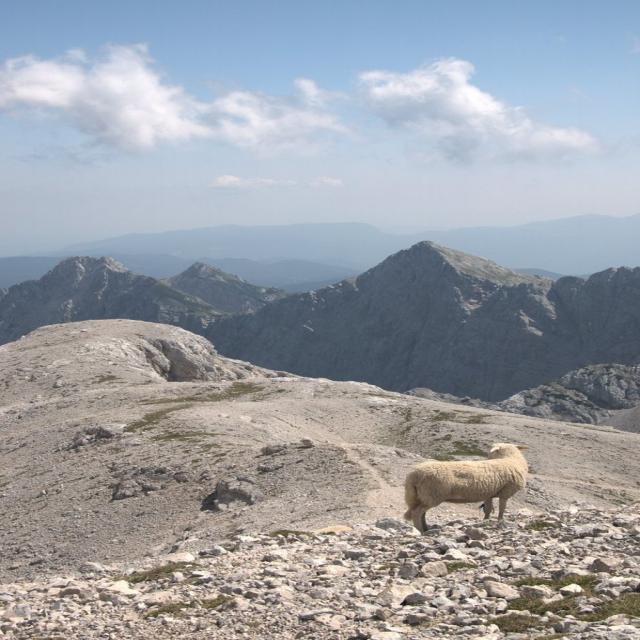Sheep: (400, 446, 537, 538)
